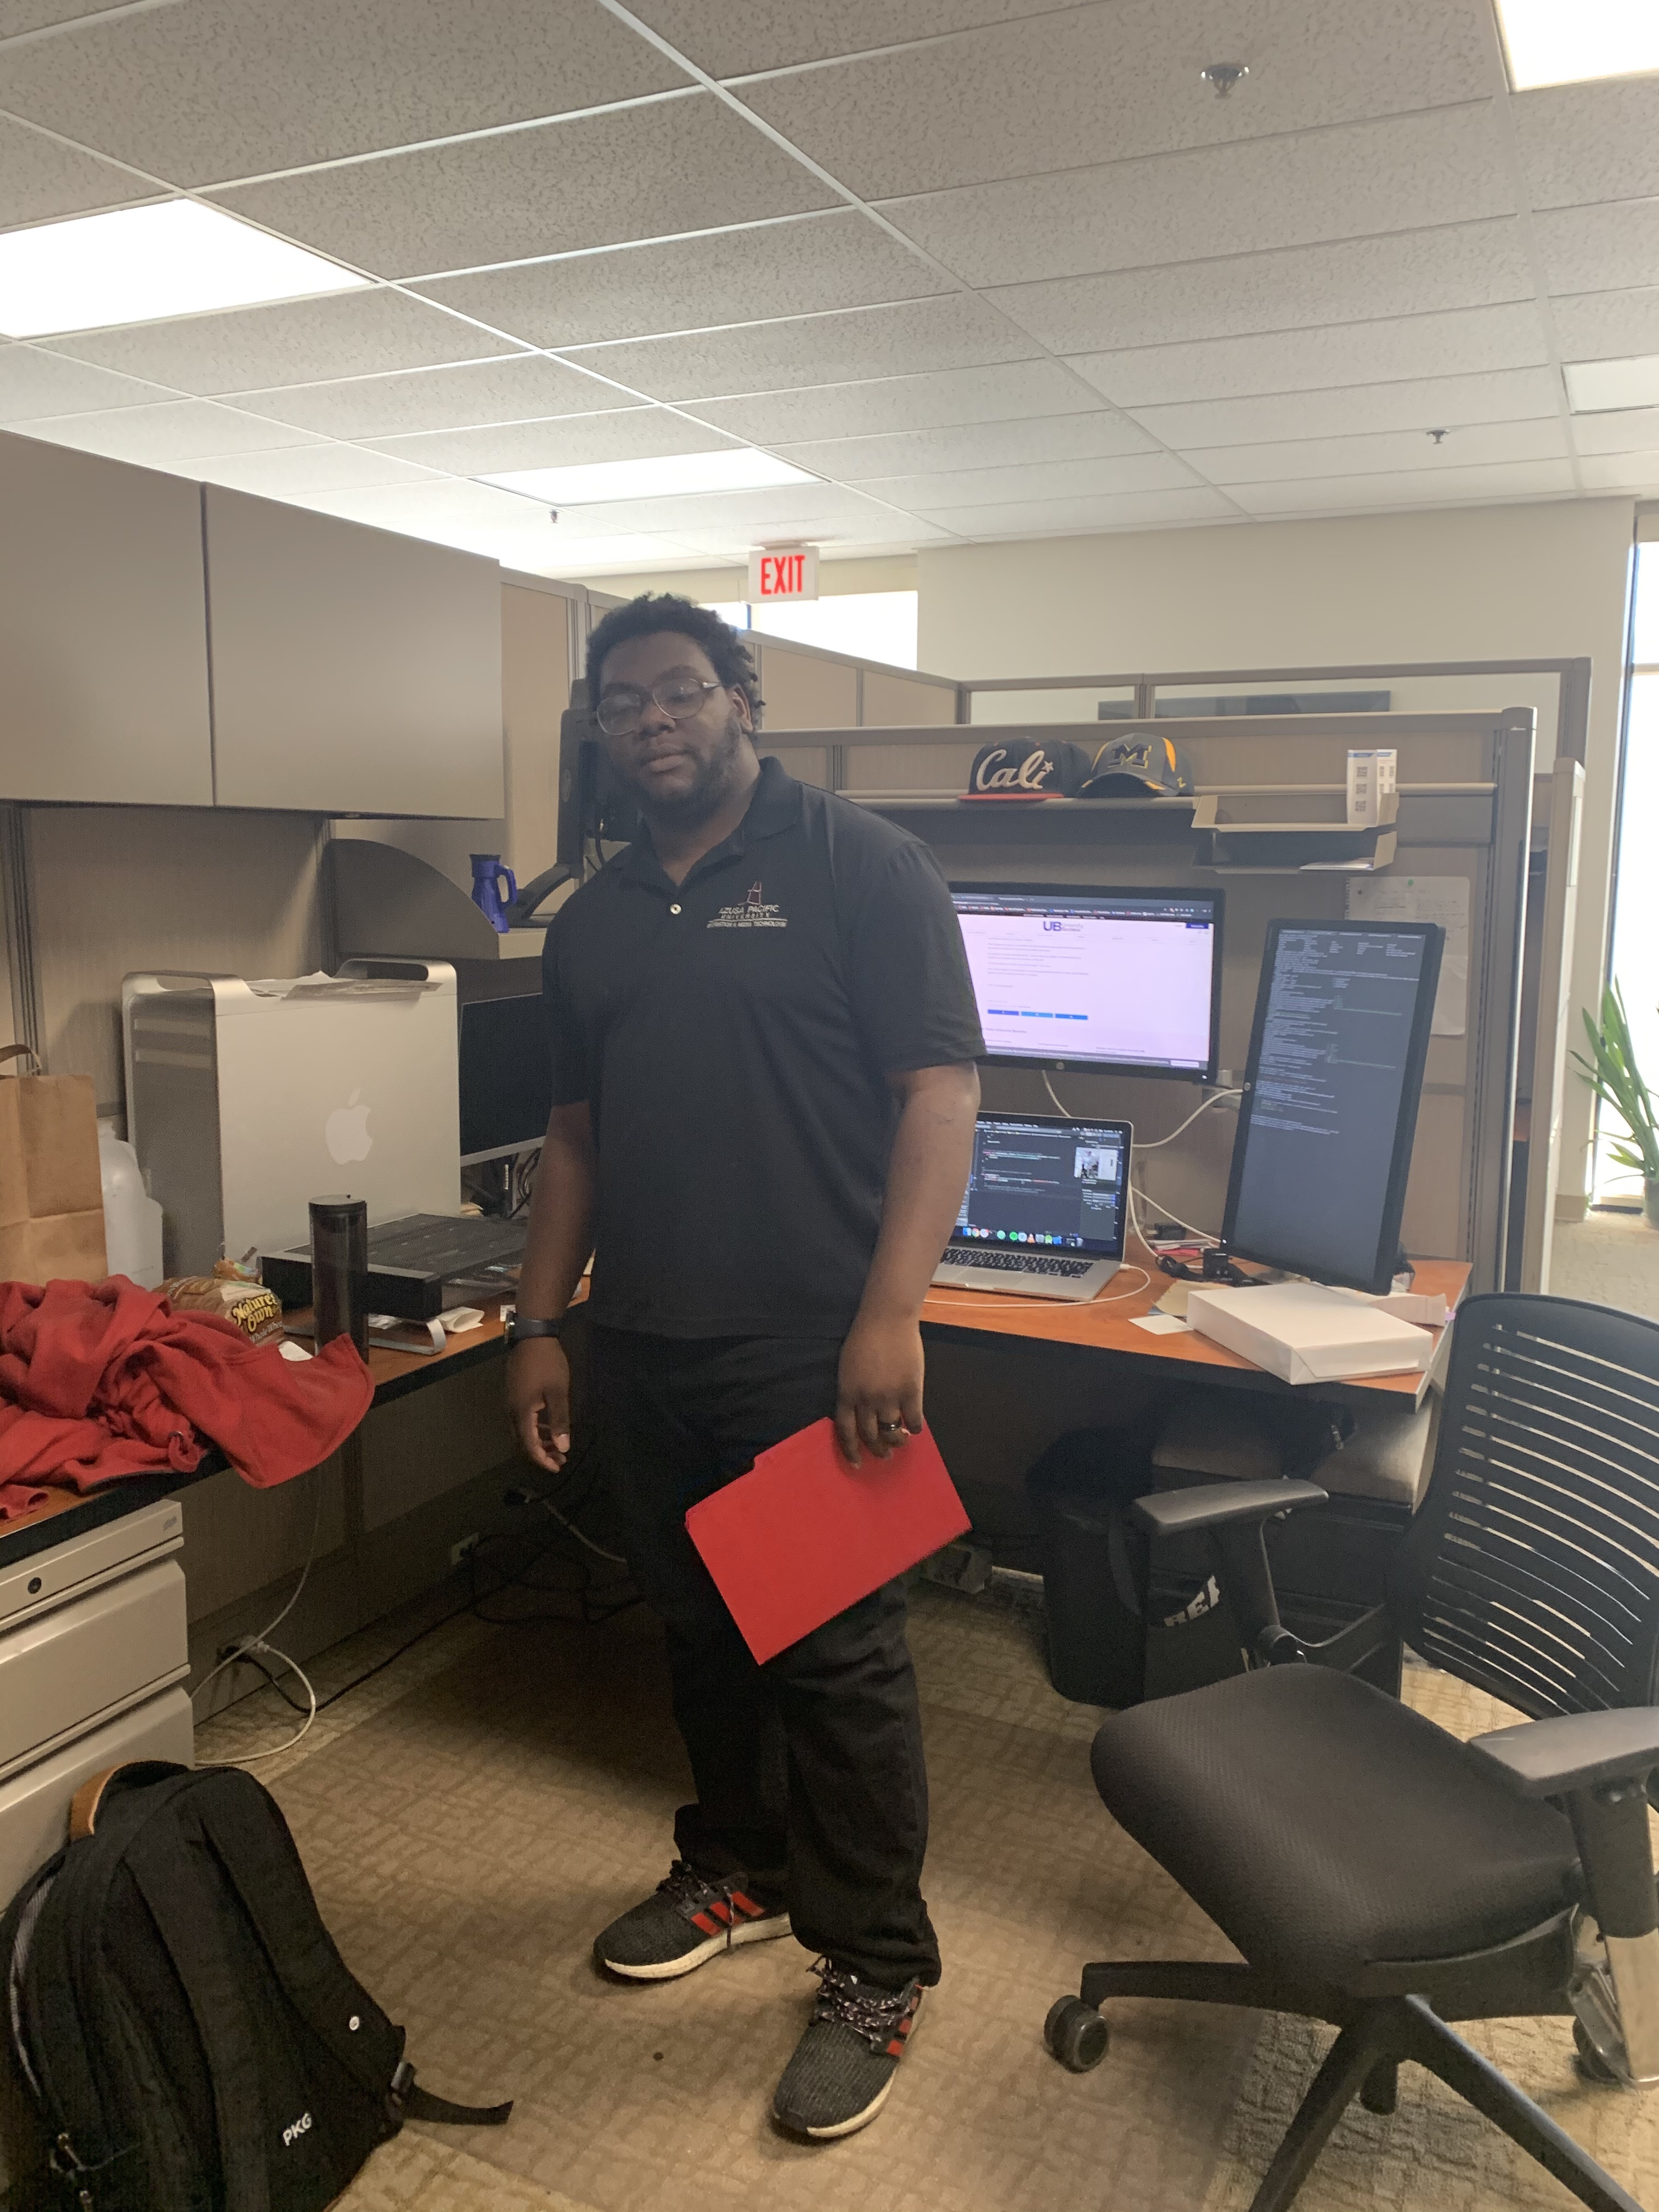red folder: (674, 1407, 985, 1662)
